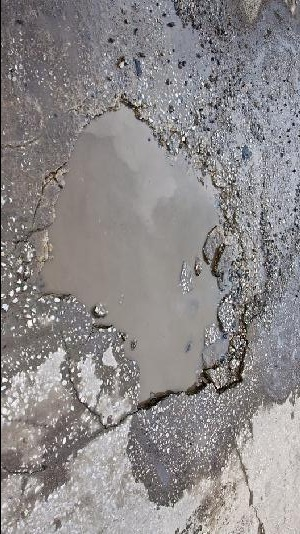pothole: (34, 92, 251, 413)
